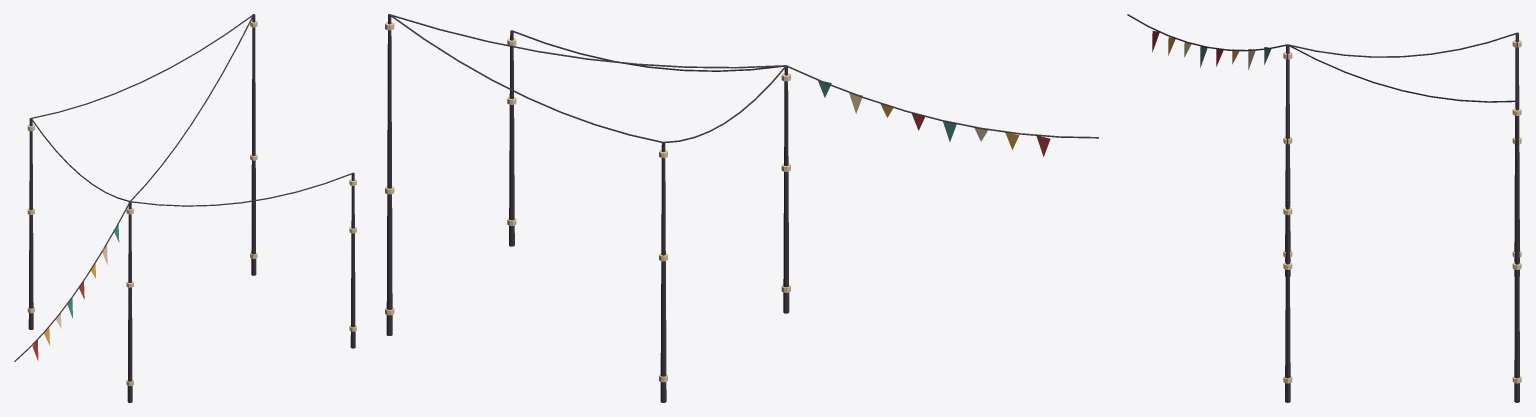
Rendered from Rig.gltf.
3 renders of one model, left to right at view 1: azimuth 30°, elevation 25°; view 2: azimuth 150°, elevation 25°; view 3: azimuth 270°, elevation 25°, orthographic. The views are drawn at different scales.
Parts seen in each view (by area): view 1: Rig; view 2: Rig; view 3: Rig.
Part boxes in pixels (<box>): Rig: <box>14,14,356,402</box>; Rig: <box>385,14,1098,402</box>; Rig: <box>1127,14,1521,402</box>.
Bounding box in the file's own units: 10.42 × 6.31 × 7.49.
